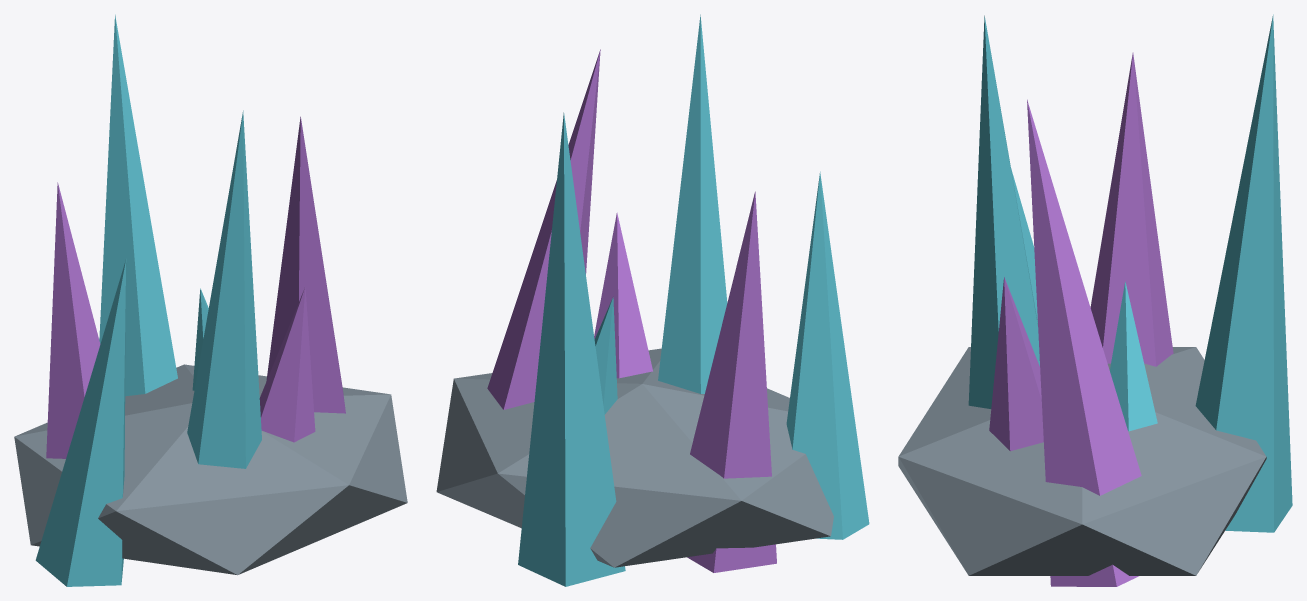
Rendered from Crystal_03_LOD0.fbx.
3 views of the same model, side by side, from view 1: azimuth 30°, elevation 25°; view 2: azimuth 150°, elevation 25°; view 3: azimuth 270°, elevation 25° (orthographic). The views are drawn at different scales.
Visible parts, largest first — view 1: Crystal_03_LOD0; view 2: Crystal_03_LOD0; view 3: Crystal_03_LOD0.
Boxes of the visible parts, x1,y1,x2,y2 form: Crystal_03_LOD0: [14, 14, 407, 586]; Crystal_03_LOD0: [436, 14, 869, 586]; Crystal_03_LOD0: [898, 14, 1292, 586].
Bounding box in the file's own units: 162 × 199 × 137.
